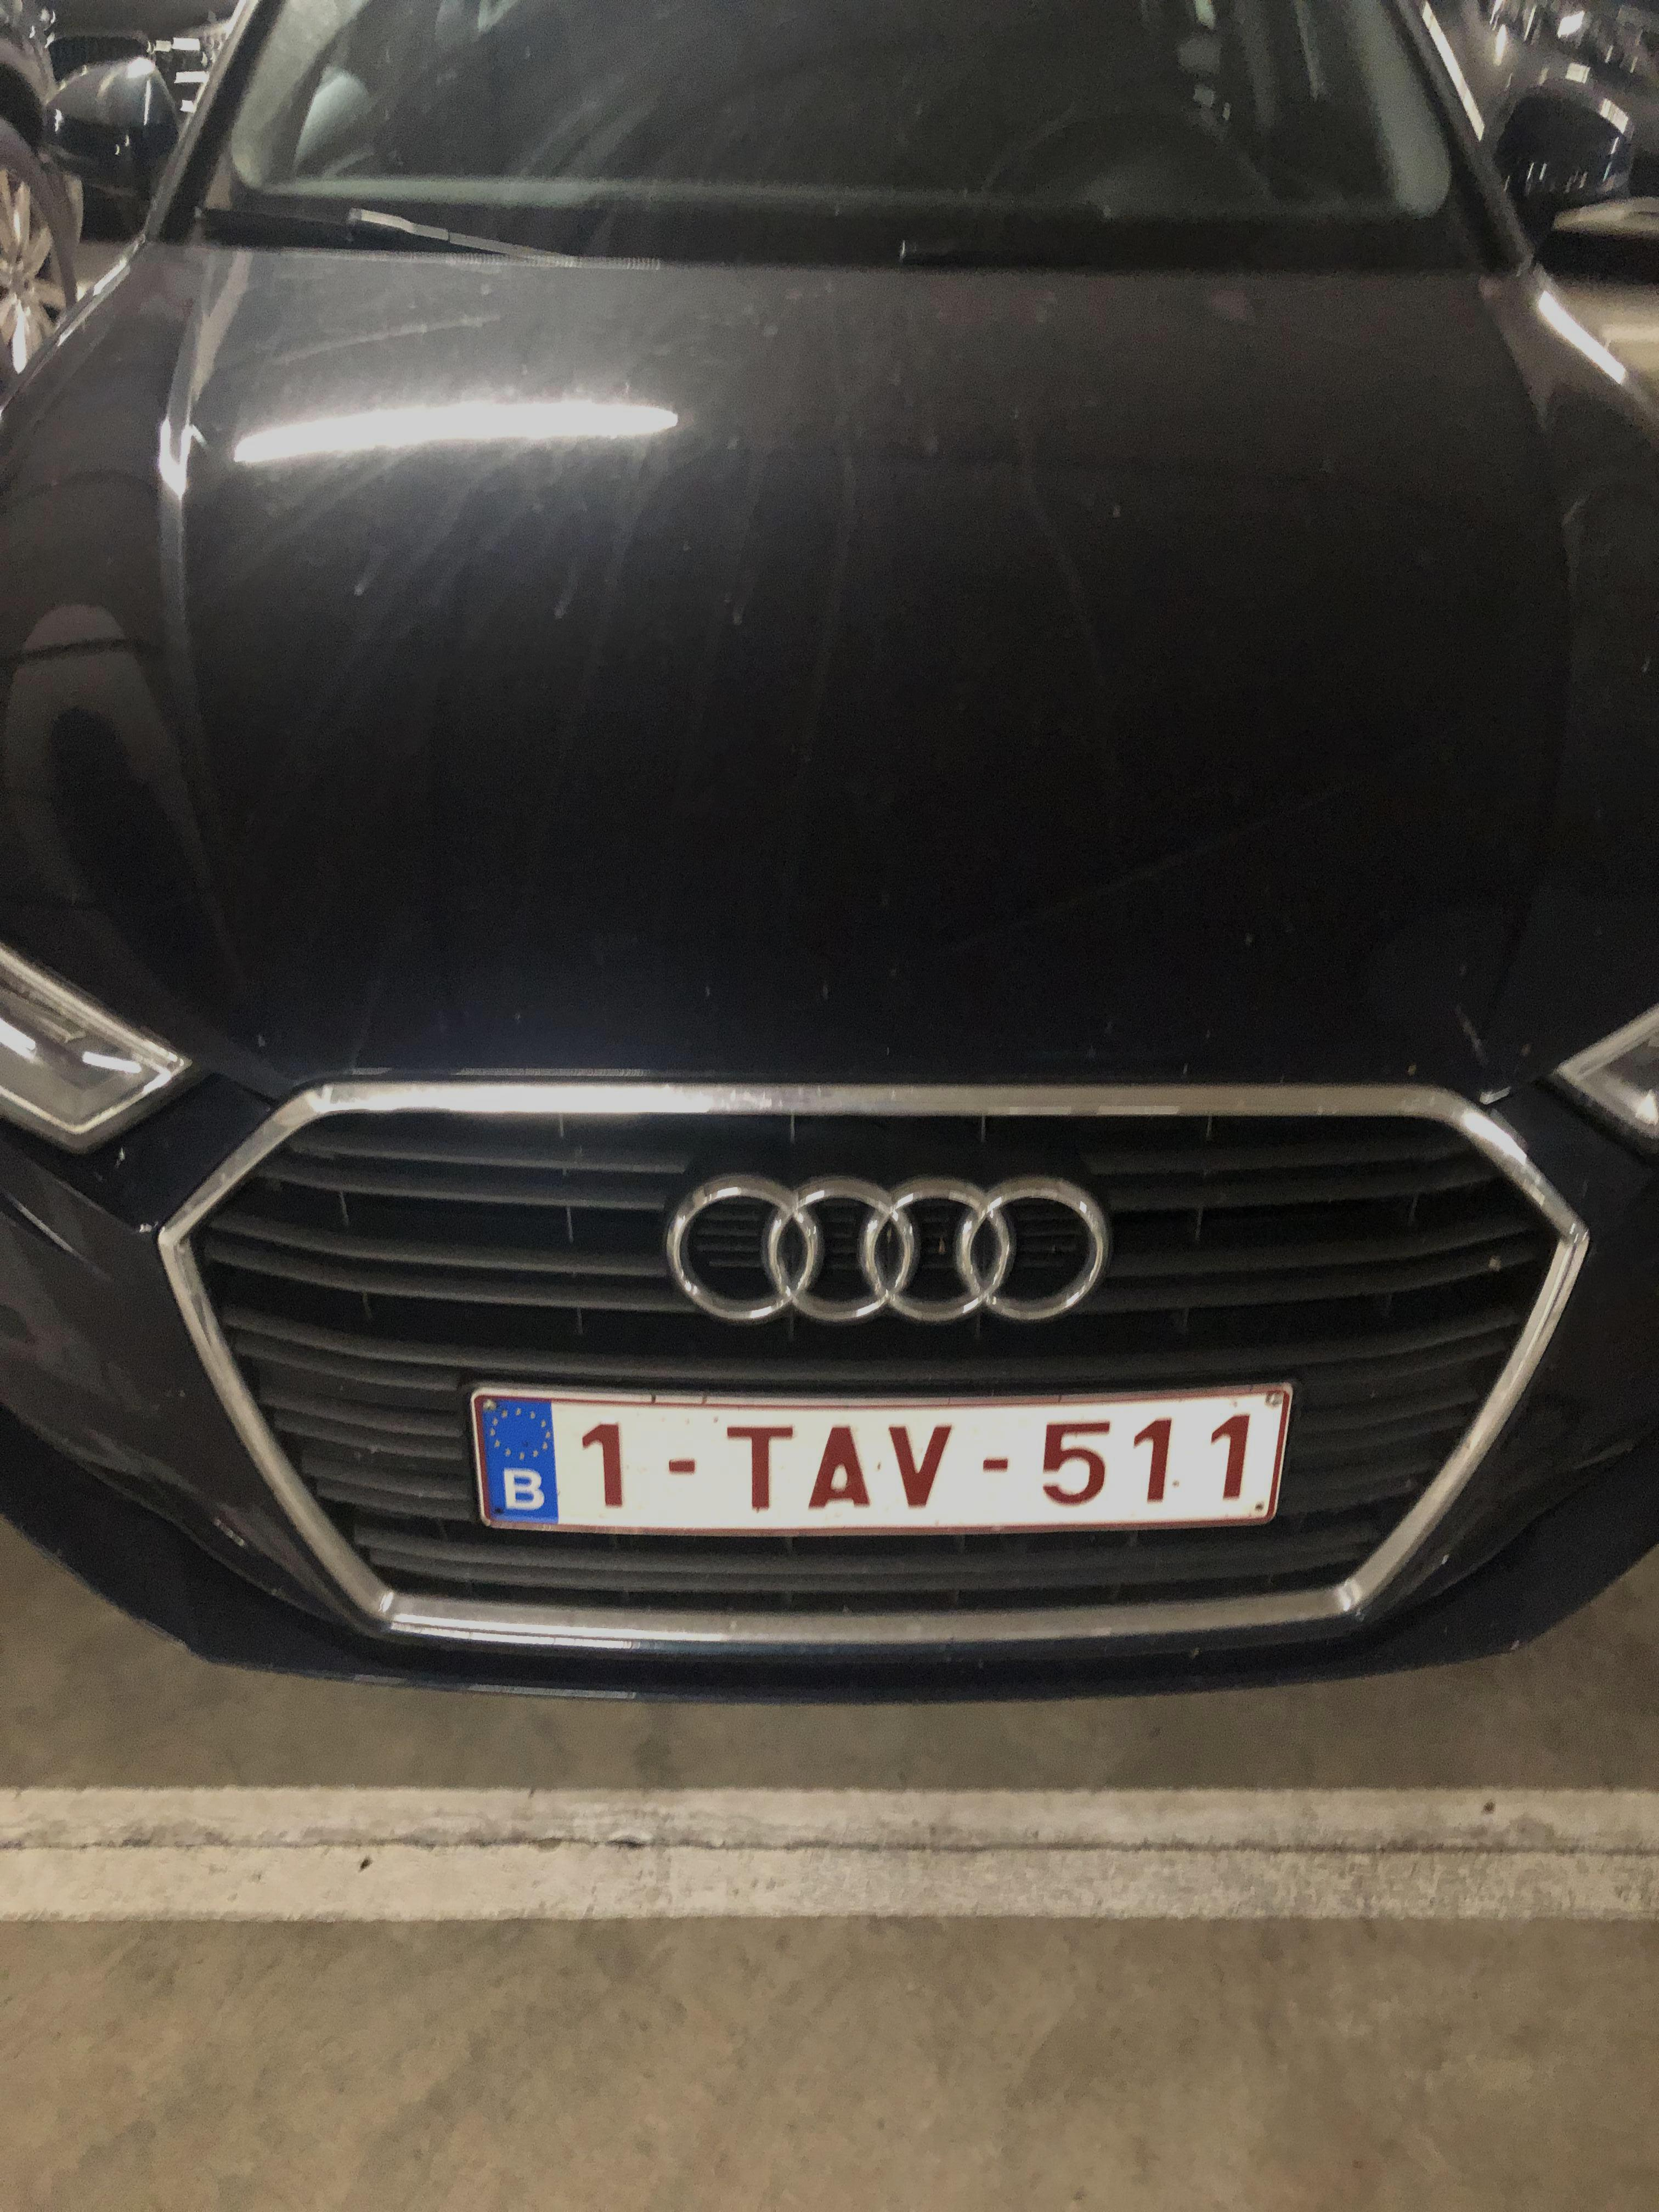plate: (430, 1349, 1324, 1568)
